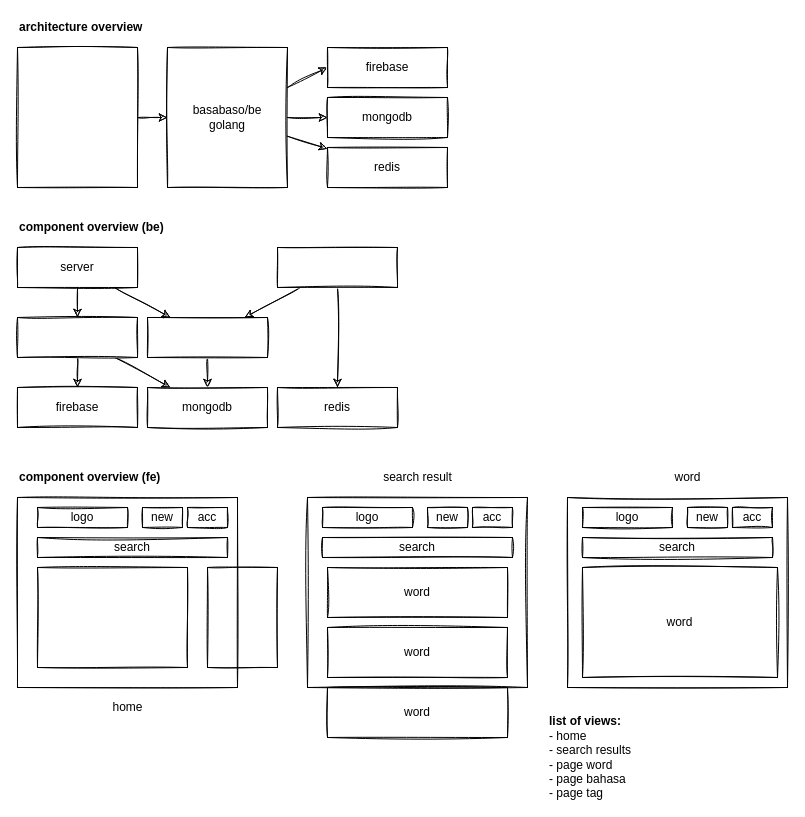
Some shapes in this 805 by 817 pixel diagram are drawn without their labels. The centre of each missing label's shape, as x and y in pixels:
"bahasa of the day" goes at pixel 242 617.
"basabaso/fe reactjs" goes at pixel 77 117.
"userservice userstore" goes at pixel 77 337.
"word of the day" goes at pixel 112 617.
"wordservice wordstore" goes at pixel 207 337.
"worker" goes at pixel 337 267.
